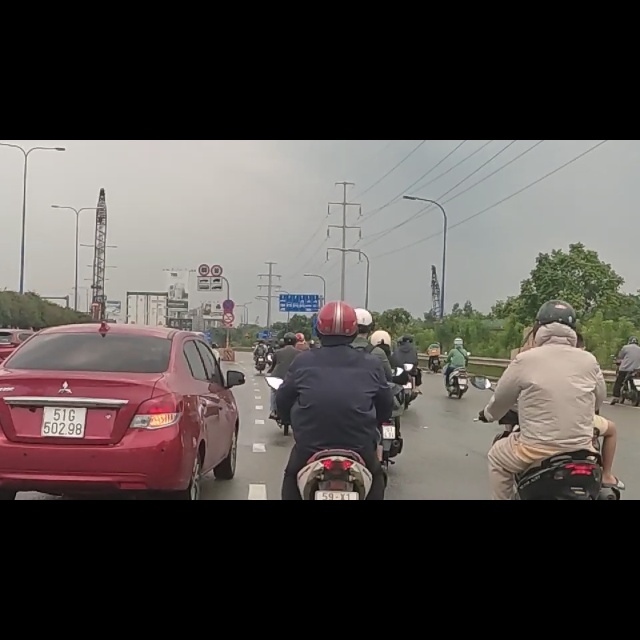bien_chi_dan: (222, 283, 234, 305)
